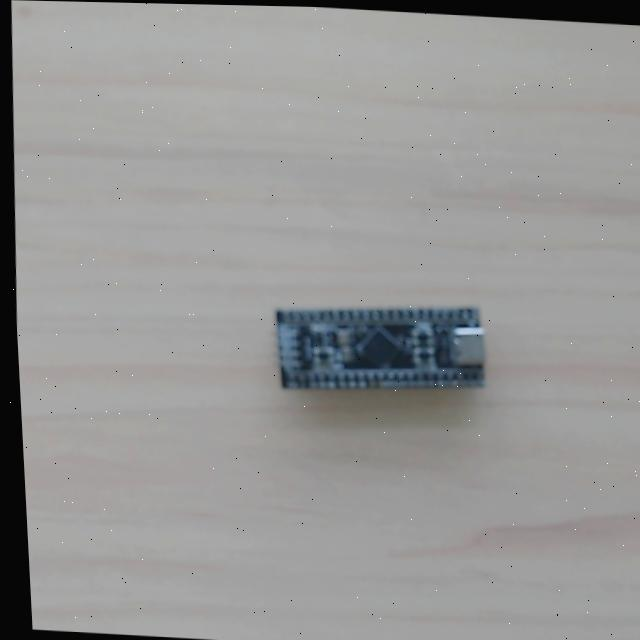STM32-Blackpill: (276, 308, 484, 388)
